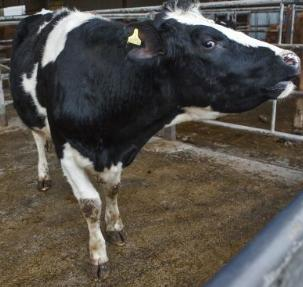cow: (9, 0, 303, 281)
